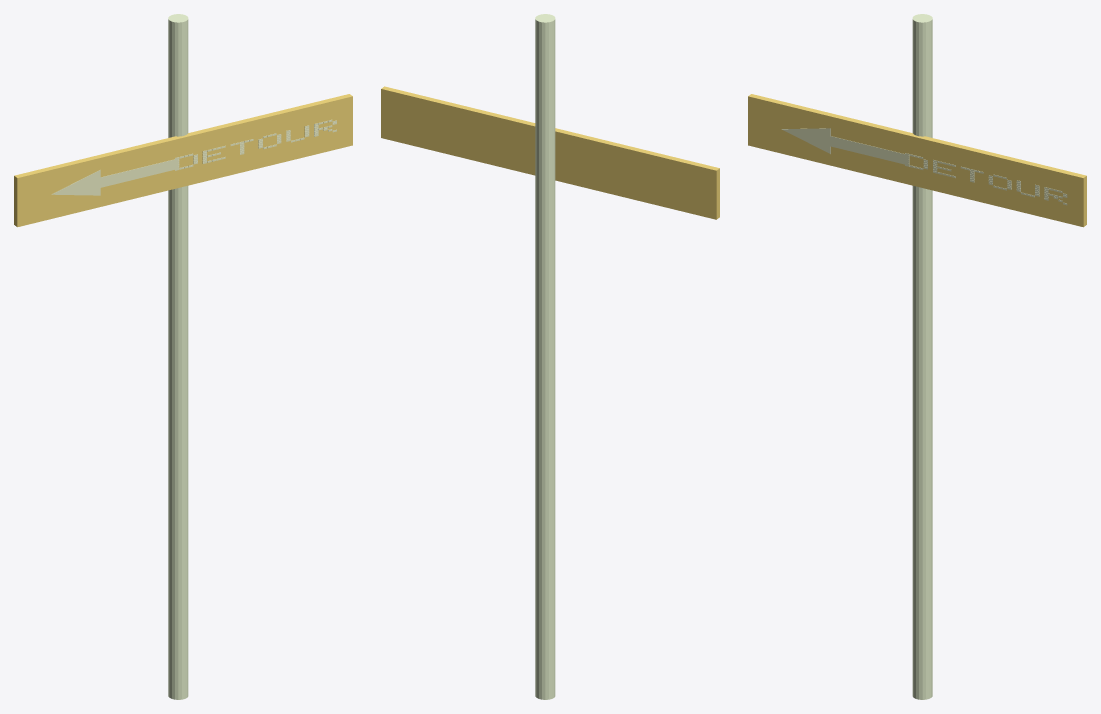
The model's file is sign_detour_left_text.glb.
3 renders of one model, left to right at view 1: azimuth 30°, elevation 25°; view 2: azimuth 150°, elevation 25°; view 3: azimuth 330°, elevation 25°, orthographic.
Visible parts, largest first — view 1: plate_base_00, pole, layer_1_00, layer_1_01; view 2: plate_base_00, pole; view 3: plate_base_00, pole, layer_1_00, layer_1_01.
Boxes of the visible parts, x1,y1,x2,y2 form: plate_base_00: (14, 94, 352, 227); pole: (168, 14, 188, 699); layer_1_00: (100, 158, 178, 187); layer_1_01: (51, 170, 100, 195); plate_base_00: (381, 86, 719, 219); pole: (535, 14, 555, 699); plate_base_00: (748, 94, 1086, 227); pole: (912, 14, 932, 699); layer_1_00: (830, 136, 908, 165); layer_1_01: (781, 128, 830, 153).
Size of the model in its own units: 1.14 by 2.2 by 0.071.
